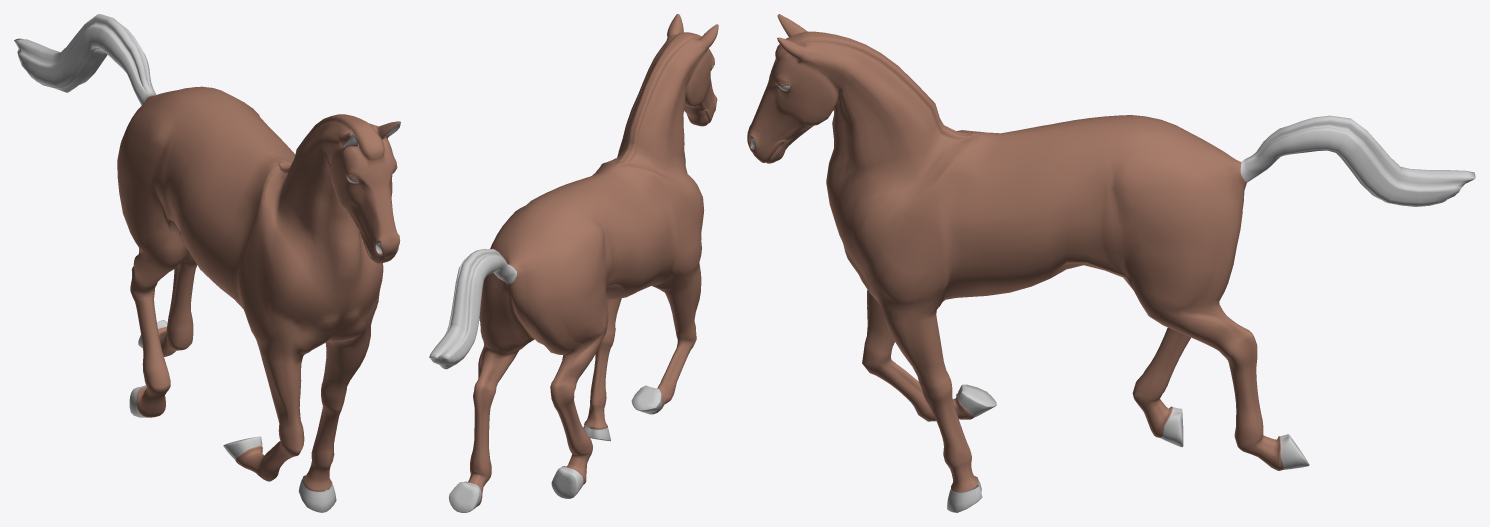
The model's file is horse_obj_15.obj.
3 views of the same model, side by side, from view 1: azimuth 30°, elevation 25°; view 2: azimuth 150°, elevation 25°; view 3: azimuth 270°, elevation 25° (orthographic). The views are drawn at different scales.
Visible parts, largest first — view 1: Figure_1; view 2: Figure_1; view 3: Figure_1.
Part boxes in pixels (box(x1,y1,x2,y2)): Figure_1: box(14, 14, 400, 512); Figure_1: box(429, 14, 718, 512); Figure_1: box(747, 14, 1475, 512).
Size of the model in its own units: 0.2421 by 0.8313 by 1.17.
